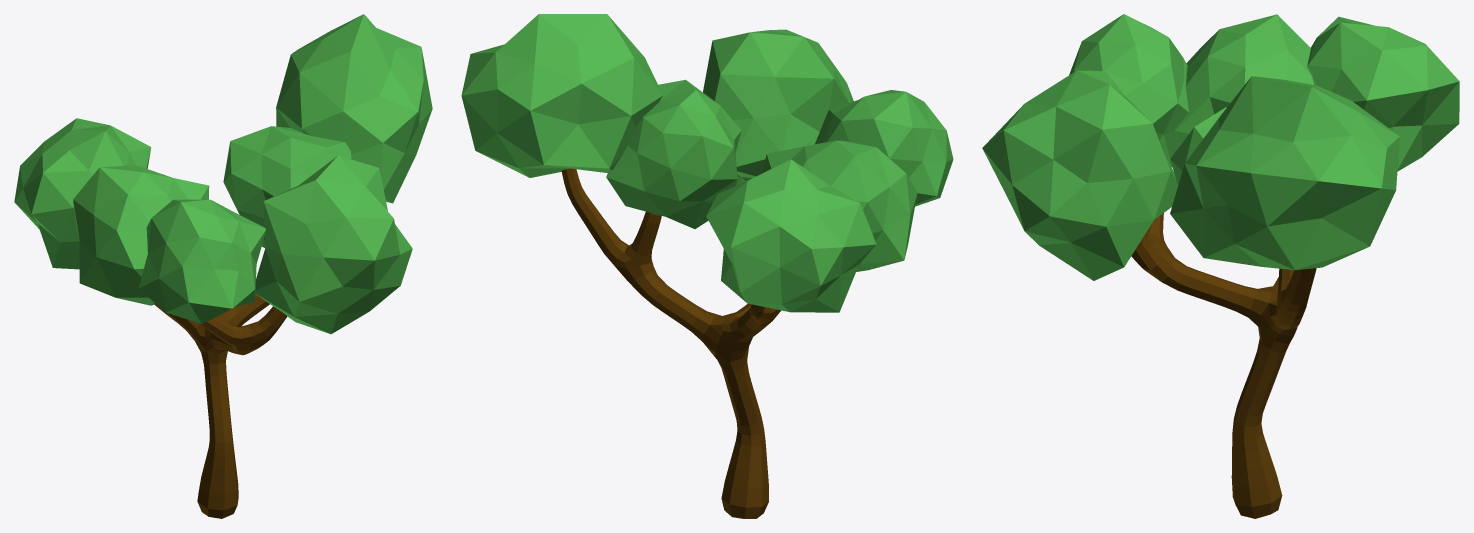
File: tree_low_ploy.fbx
3 views of the same model, side by side, from view 1: azimuth 30°, elevation 25°; view 2: azimuth 150°, elevation 25°; view 3: azimuth 270°, elevation 25° (orthographic). The views are drawn at different scales.
Visible parts, largest first — view 1: 平面; view 2: 平面; view 3: 平面.
Boxes of the visible parts, bbox=[...] form: 平面: bbox=[14, 14, 432, 518]; 平面: bbox=[461, 14, 953, 518]; 平面: bbox=[982, 14, 1459, 518].
Bounding box in the file's own units: 907 × 1002 × 824.
